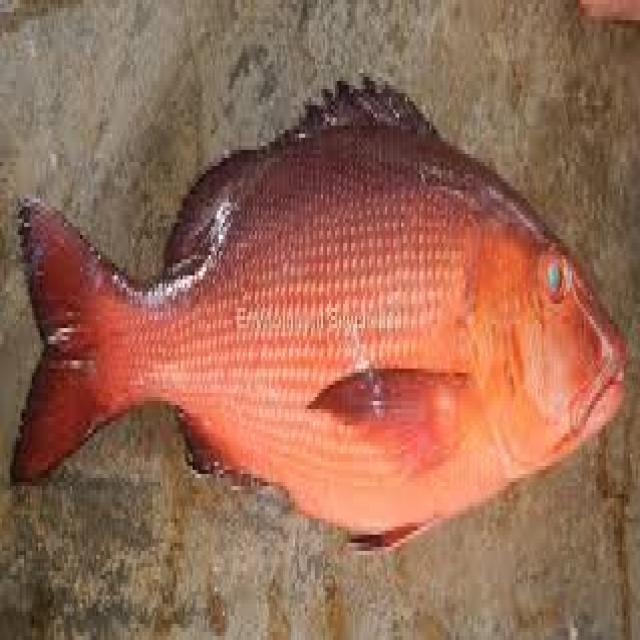northern-red-snapper: (6, 105, 635, 559)
